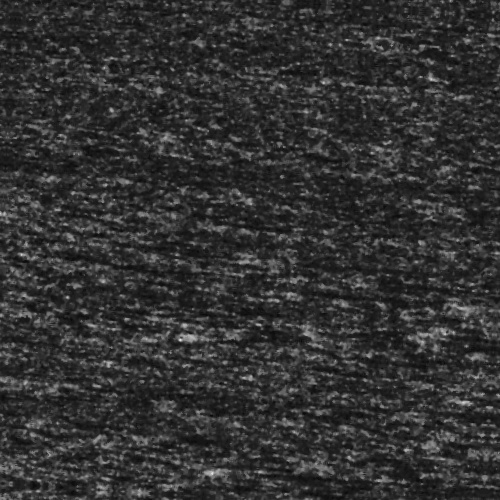object: (257, 256, 340, 263), (239, 465, 270, 474), (12, 496, 53, 500)
shadow: (255, 465, 380, 474), (299, 256, 432, 263), (33, 496, 92, 500)
